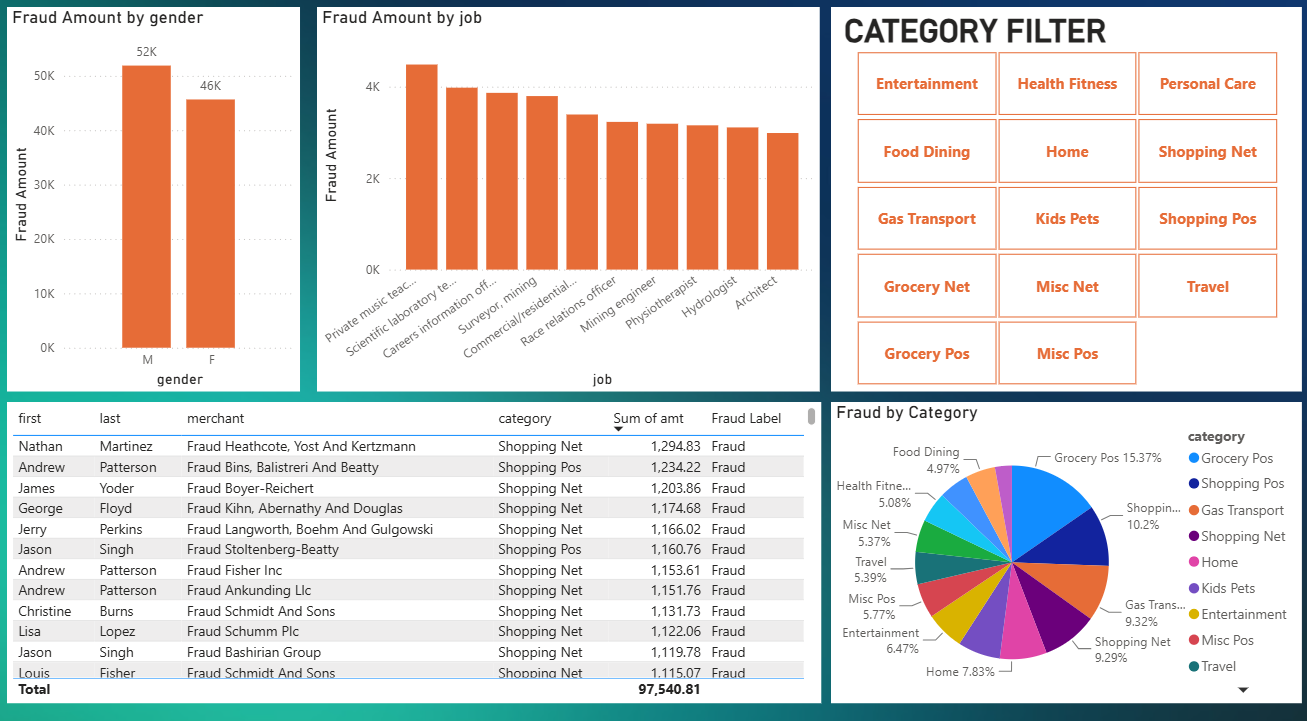

Layout of this report page (visuals, bound fields, positions):
{"tool":"powerbi","page":{"name":"FRAUD ANALYSIS CATEGORY","canvas":[1280,720],"ordinal":1},"visuals":[{"type":"clusteredColumnChart","fields":{"Category":["cc_data_dec19.gender"],"Y":["cc_data_dec19.Fraud Amount"]},"box":[11.3,12.4,285.3,374.4],"z":0},{"type":"clusteredColumnChart","fields":{"Category":["cc_data_dec19.job"],"Y":["cc_data_dec19.Fraud Amount"]},"box":[313.5,12.4,489.4,374.4],"z":1000},{"type":"tableEx","fields":{"Values":["cc_data_dec19.first","cc_data_dec19.last","cc_data_dec19.merchant","cc_data_dec19.category","Sum(cc_data_dec19.amt)","cc_data_dec19.Fraud Label"]},"box":[11.3,397,791.7,293.2],"z":2000},{"type":"slicer","fields":{"Values":["cc_data_dec19.category"]},"box":[813.1,12.4,457.9,374.4],"z":3000},{"type":"pieChart","title":"Fraud by Category","fields":{"Category":["cc_data_dec19.category"],"Y":["Sum(cc_data_dec19.amt)"]},"box":[813,397,458,293],"z":3001}]}

Visuals, with their boxes in screenshot pixels (x1, y1, x2, y2), scaled from the page's 1280x720 canvas onto the 1307x721 screenshot:
clusteredColumnChart - cc_data_dec19.gender x cc_data_dec19.Fraud Amount: 12,12,303,387
clusteredColumnChart - cc_data_dec19.job x cc_data_dec19.Fraud Amount: 320,12,820,387
tableEx - cc_data_dec19.first x cc_data_dec19.last: 12,398,820,691
slicer - cc_data_dec19.category: 830,12,1298,387
"Fraud by Category" pieChart: 830,398,1298,691
